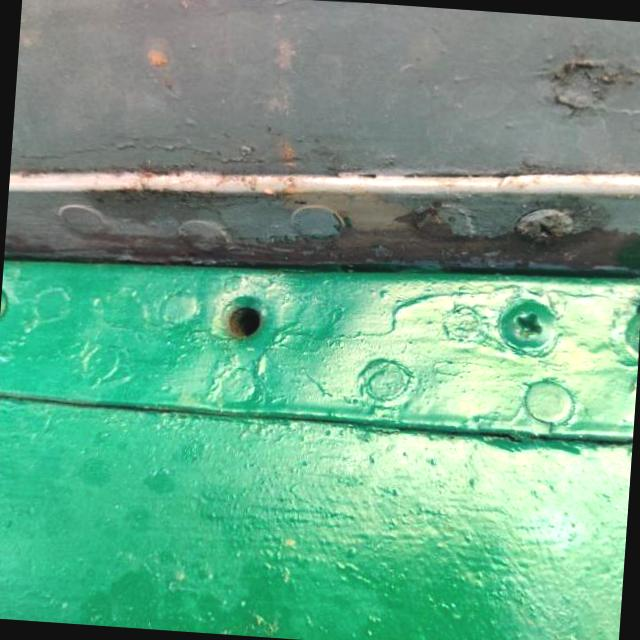Missing Fastener: (210, 285, 278, 346)
